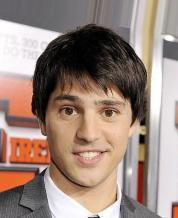face: (57, 94, 123, 169)
